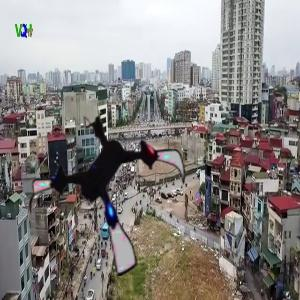drone: (26, 108, 196, 278)
